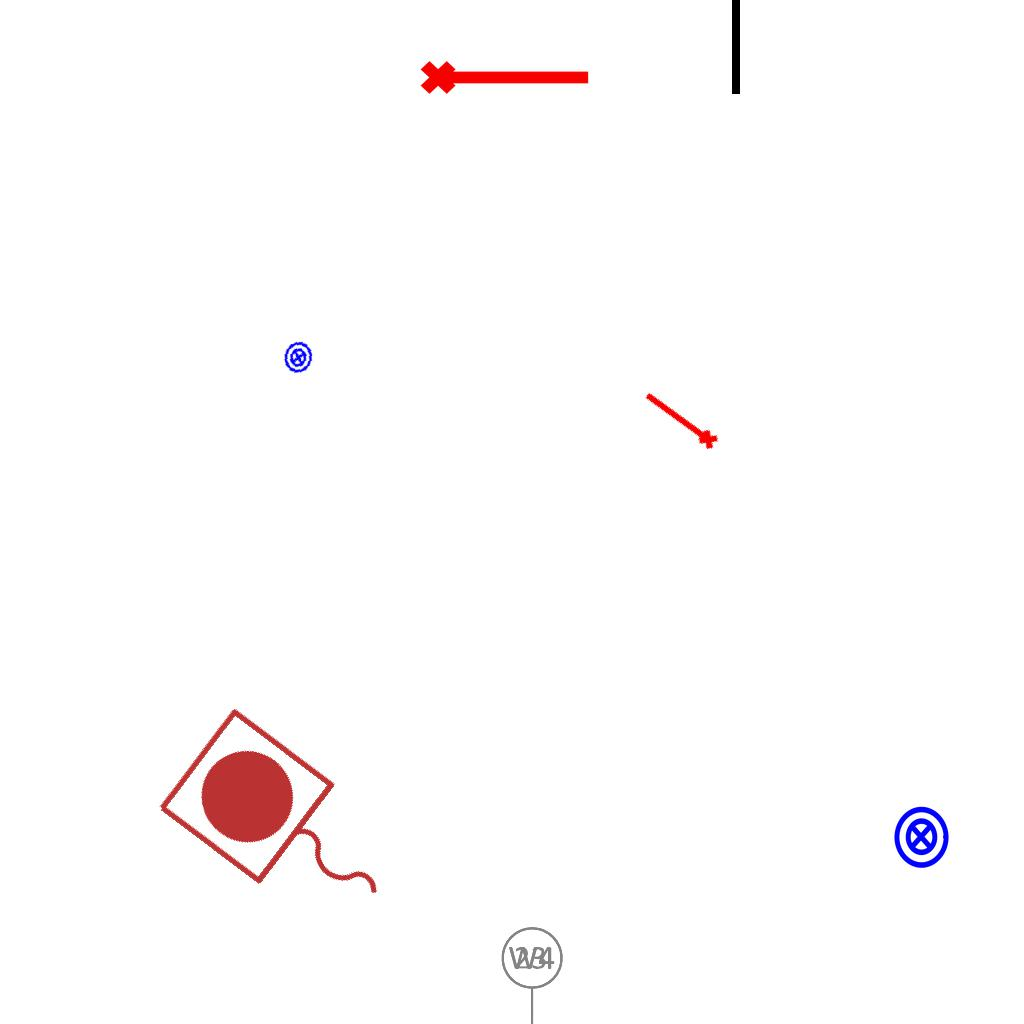ASR_Ansaugoeffnung: (418, 52, 594, 98), (637, 385, 723, 456)
Taster_beleuchtet: (888, 804, 954, 870), (279, 338, 318, 377)
Zugtaster: (145, 697, 427, 959)
